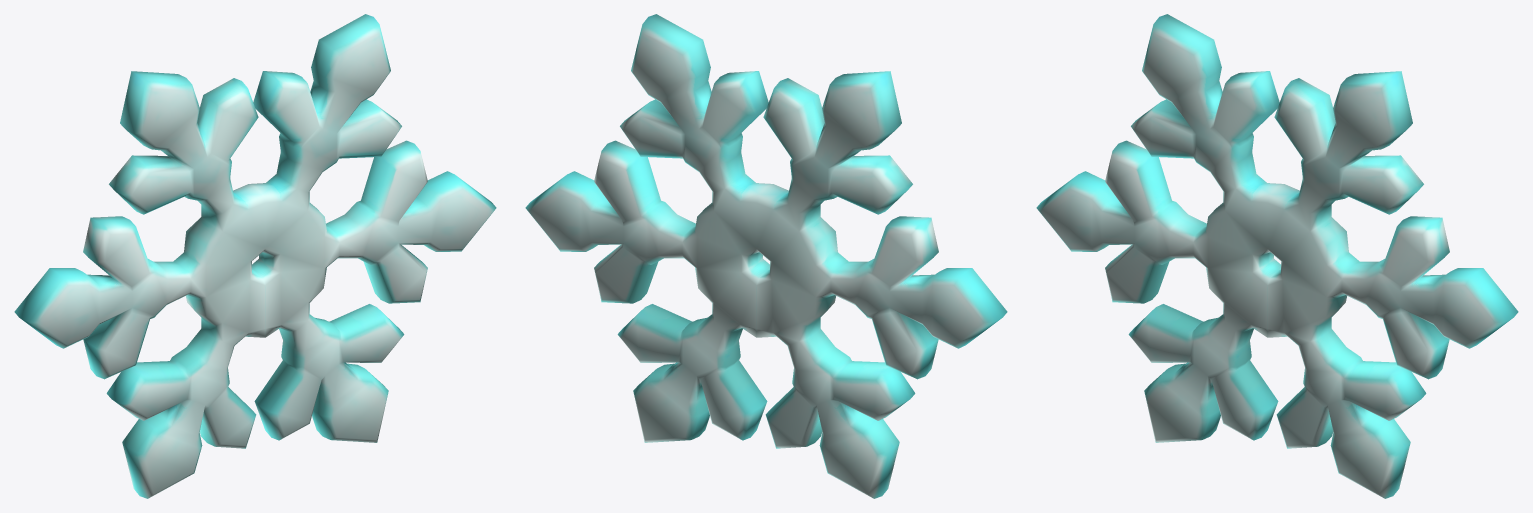
The model's file is XueHua.FBX.
The picture shows the model from 3 angles, left to right: view 1: azimuth 30°, elevation 25°; view 2: azimuth 150°, elevation 25°; view 3: azimuth 330°, elevation 25°; orthographic projection.
Parts seen in each view (by area): view 1: XueHua; view 2: XueHua; view 3: XueHua.
Part boxes in pixels (bbox=[...]): XueHua: bbox=[14, 14, 496, 498]; XueHua: bbox=[525, 14, 1007, 498]; XueHua: bbox=[1036, 14, 1518, 498].
Bounding box in the file's own units: 108 × 92.35 × 7.86.
1 material, 1 textured.
